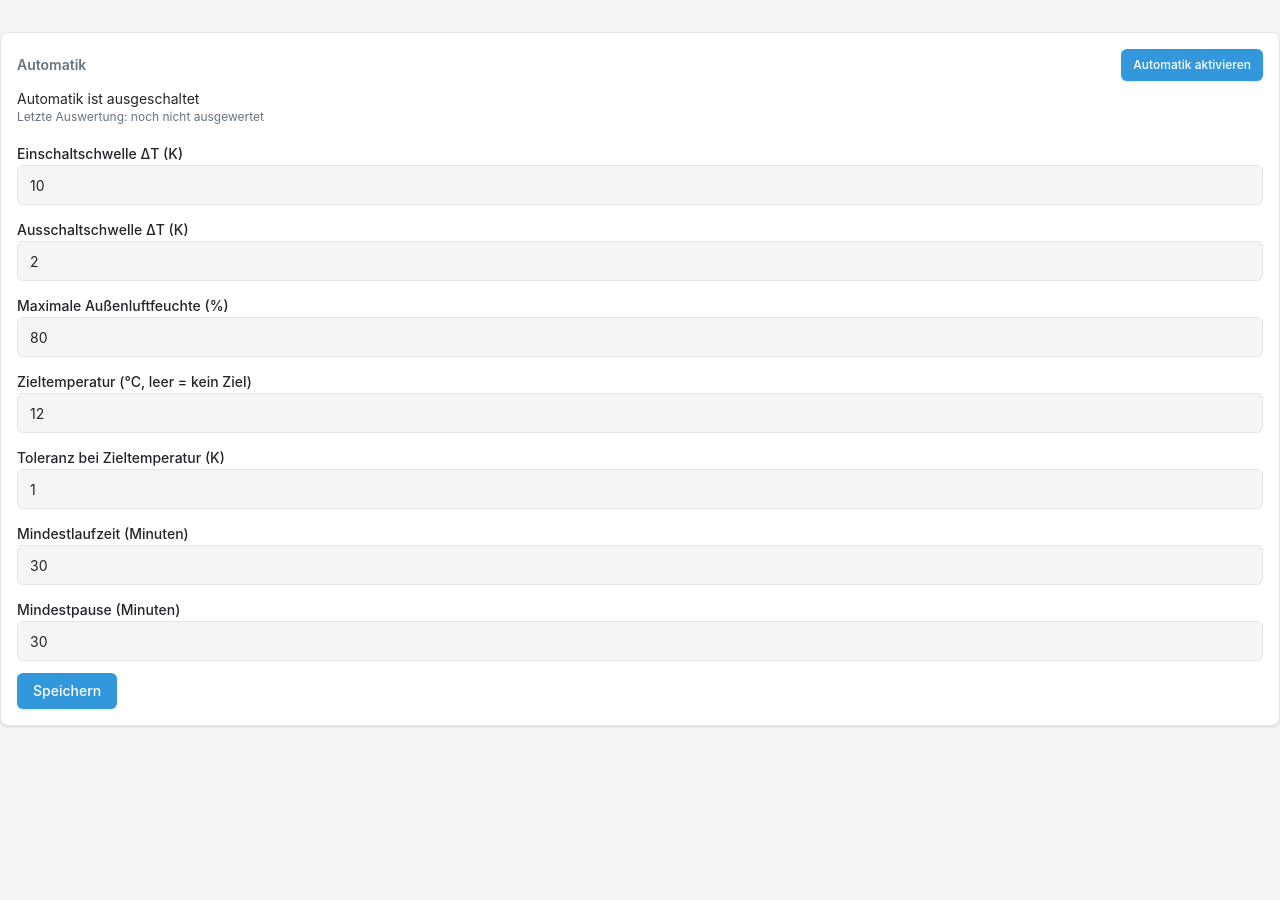
Scenario: FanAutomationPanel › shows the field error from the 400 response instead of a generic failure
Replace the text in the number field labelled "Einschaltschwelle ΔT (K)" with "25": (640, 185) left=17, top=165, right=1263, bottom=205
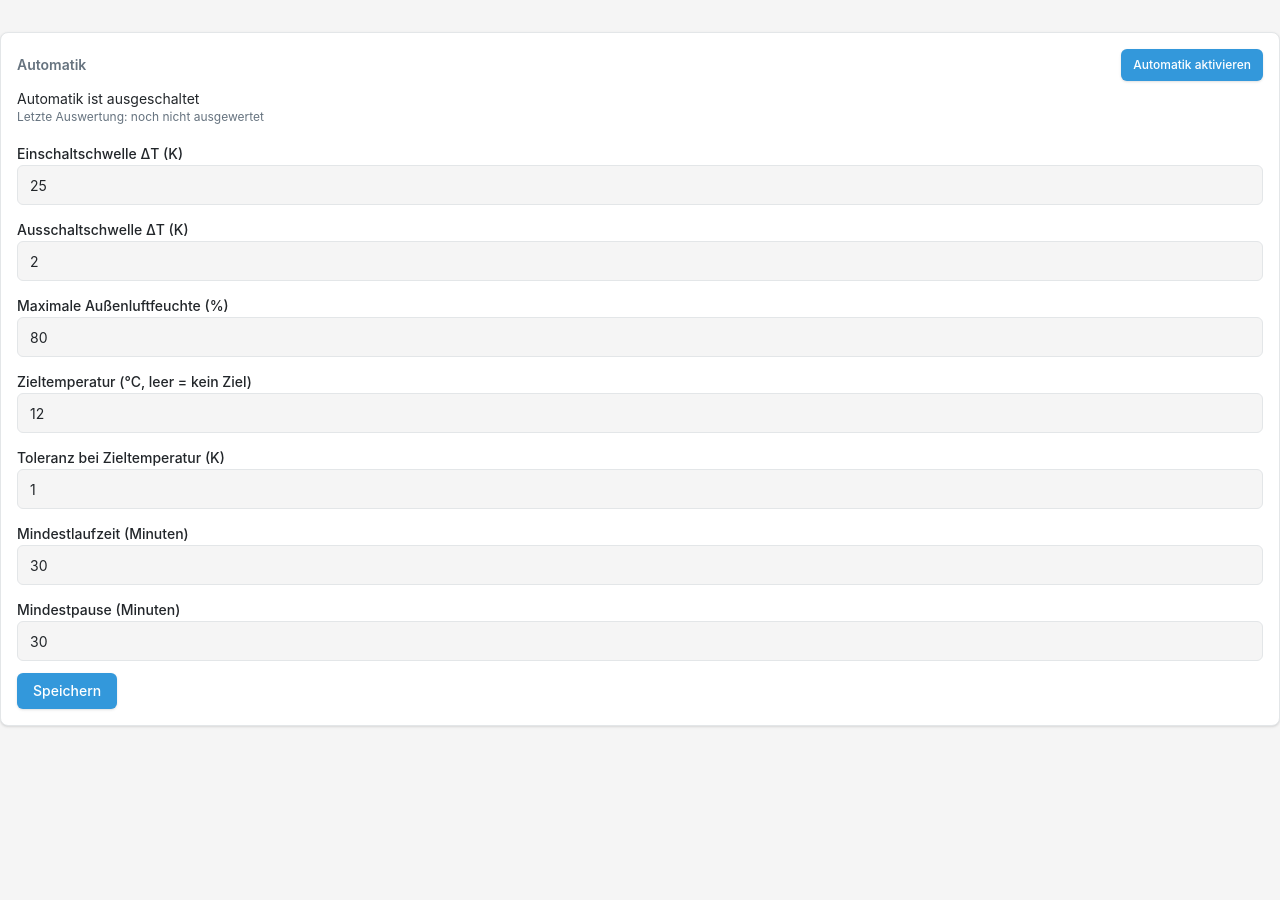
Click the button "Speichern": (67, 691) left=17, top=673, right=117, bottom=709
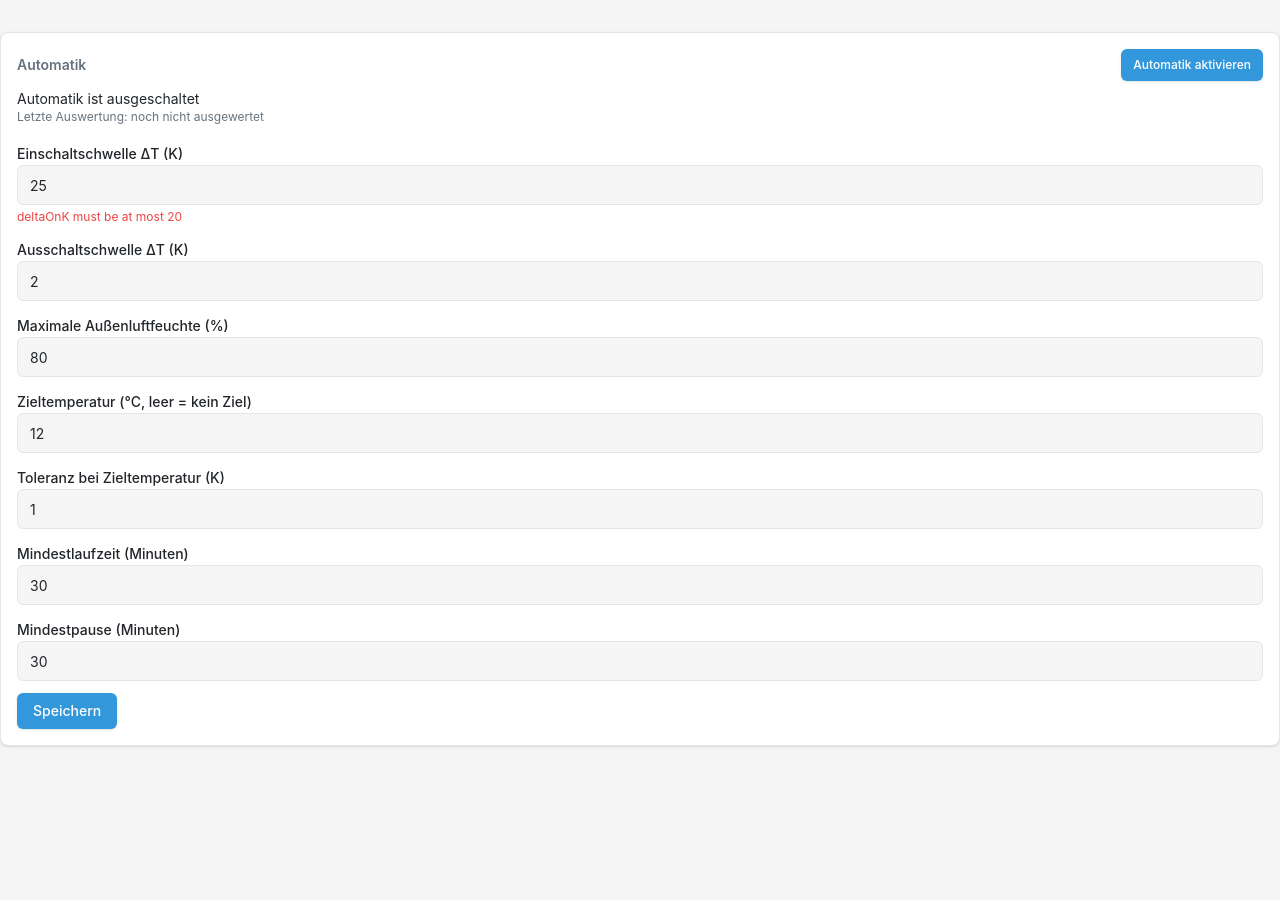
expect the text "deltaOnK must be at most 20" is shown: met, box left=17, top=209, right=182, bottom=224
